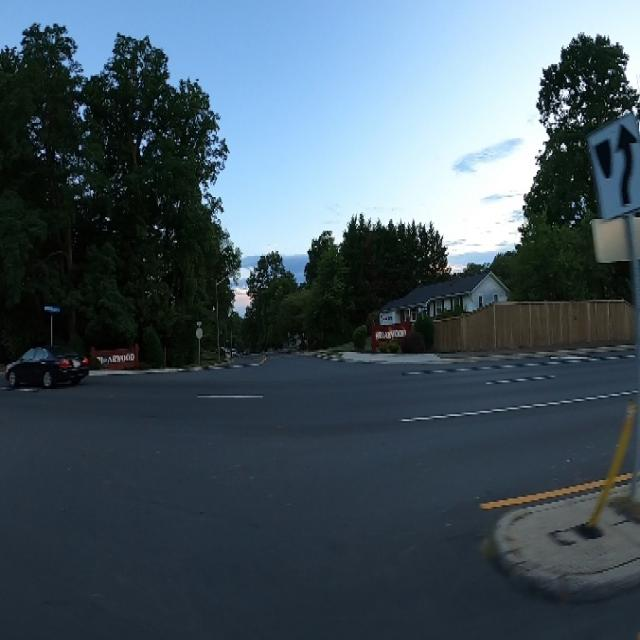car: (5, 320, 98, 391)
